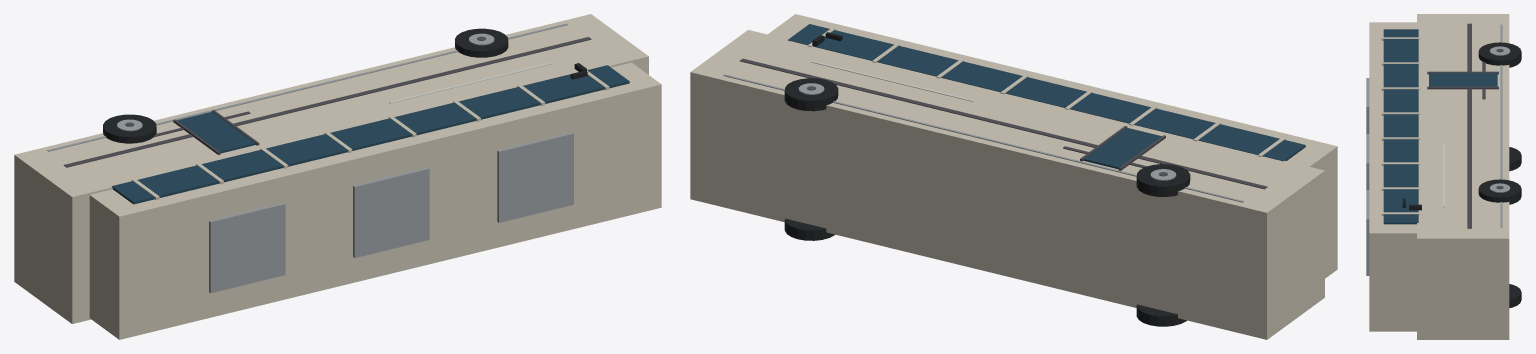
The model's file is RM_Bus_43.glb.
3 renders of one model, left to right at view 1: azimuth 30°, elevation 25°; view 2: azimuth 150°, elevation 25°; view 3: azimuth 270°, elevation 25°, orthographic. The views are drawn at different scales.
Visible parts, largest first — view 1: part_001, part_000, part_002, part_037, part_039, part_038, part_013, part_040, part_014, part_024, part_030; view 2: part_000, part_002, part_001, part_013, part_040, part_030, part_024, part_014, part_027, part_021; view 3: part_000, part_001, part_002, part_040, part_013, part_030, part_024, part_014, part_039, part_042, part_021, part_027 (+6 smaller).
Part boxes in pixels (x1=…): part_001: x1=89, y1=62, x2=661, y2=339; part_000: x1=14, y1=14, x2=648, y2=323; part_002: x1=111, y1=65, x2=629, y2=204; part_037: x1=209, y1=202, x2=285, y2=293; part_039: x1=497, y1=132, x2=573, y2=222; part_038: x1=353, y1=167, x2=429, y2=257; part_013: x1=63, y1=37, x2=591, y2=167; part_040: x1=177, y1=112, x2=255, y2=153; part_014: x1=47, y1=23, x2=567, y2=151; part_024: x1=103, y1=114, x2=156, y2=143; part_030: x1=455, y1=28, x2=508, y2=57; part_000: x1=690, y1=30, x2=1324, y2=339; part_002: x1=788, y1=24, x2=1305, y2=161; part_001: x1=767, y1=14, x2=1337, y2=278; part_013: x1=740, y1=58, x2=1267, y2=189; part_040: x1=1083, y1=127, x2=1161, y2=169; part_030: x1=784, y1=78, x2=838, y2=111; part_024: x1=1136, y1=164, x2=1190, y2=196; part_014: x1=723, y1=74, x2=1243, y2=202; part_027: x1=784, y1=218, x2=834, y2=240; part_021: x1=1136, y1=304, x2=1186, y2=326; part_000: x1=1417, y1=14, x2=1509, y2=339; part_001: x1=1369, y1=22, x2=1416, y2=331; part_002: x1=1383, y1=29, x2=1418, y2=224; part_040: x1=1429, y1=73, x2=1497, y2=86; part_013: x1=1467, y1=23, x2=1471, y2=228; part_030: x1=1478, y1=179, x2=1521, y2=204; part_024: x1=1478, y1=42, x2=1521, y2=67; part_014: x1=1500, y1=24, x2=1502, y2=227; part_039: x1=1366, y1=190, x2=1369, y2=275; part_042: x1=1427, y1=86, x2=1498, y2=89; part_021: x1=1509, y1=147, x2=1521, y2=171; part_027: x1=1509, y1=284, x2=1521, y2=308.
Bounding box in the file's own units: 11.64 × 2.77 × 3.4.
